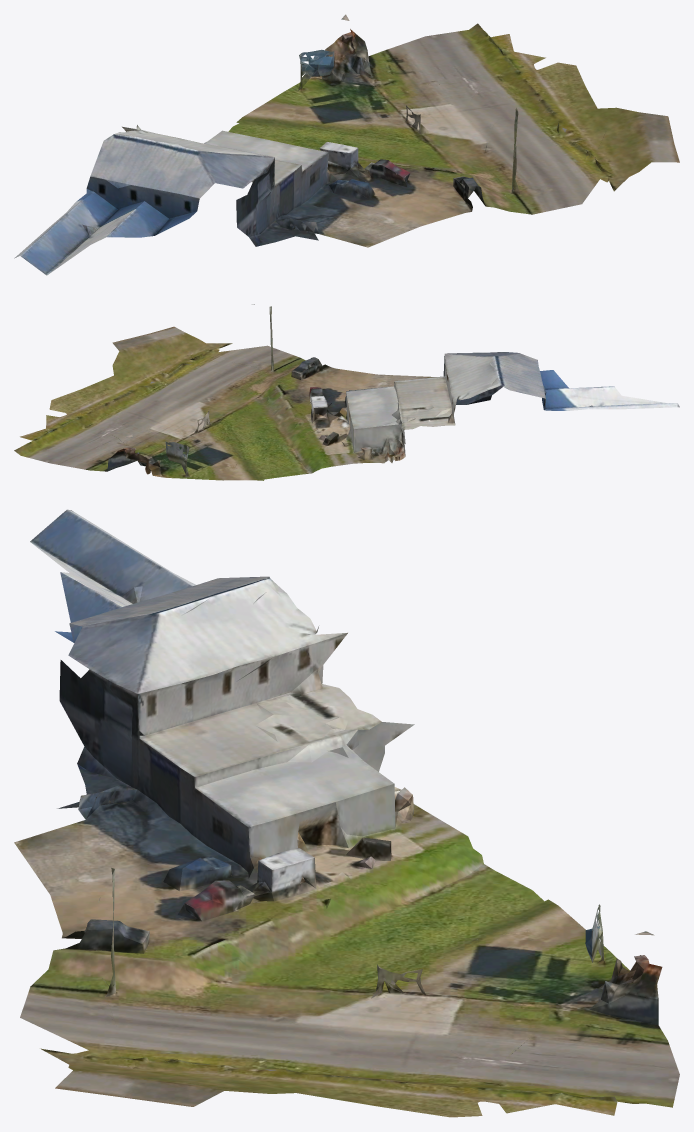
Rendered from Tile_012_018_L19.gltf.
3 renders of one model, top to bottom at view 1: azimuth 30°, elevation 25°; view 2: azimuth 150°, elevation 25°; view 3: azimuth 270°, elevation 25°, orthographic. The views are drawn at different scales.
Parts seen in each view (by area): view 1: Tile_+012_+018_L19; view 2: Tile_+012_+018_L19; view 3: Tile_+012_+018_L19.
Boxes of the visible parts, x1,y1,x2,y2 form: Tile_+012_+018_L19: (14, 14, 679, 275); Tile_+012_+018_L19: (14, 304, 679, 480); Tile_+012_+018_L19: (14, 509, 679, 1117).
Size of the model in its own units: 85.74 by 13.36 by 47.2.
Materials: 1 (1 with a texture image).
